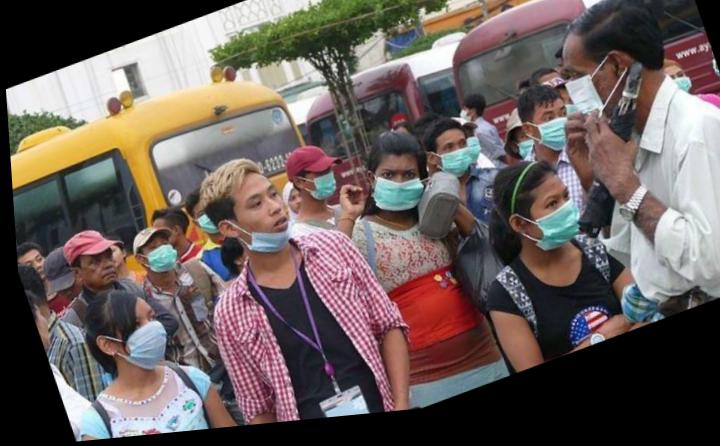NONE: (74, 249, 119, 295), (14, 246, 51, 287), (283, 193, 308, 219)
OK: (546, 43, 651, 151), (508, 186, 593, 272), (96, 304, 177, 387), (359, 160, 425, 227), (522, 106, 584, 170), (426, 138, 480, 193), (132, 233, 182, 285), (297, 165, 343, 212), (189, 200, 227, 244), (511, 136, 550, 176), (658, 77, 693, 116), (456, 111, 479, 135)
WRONG: (221, 181, 296, 264)
